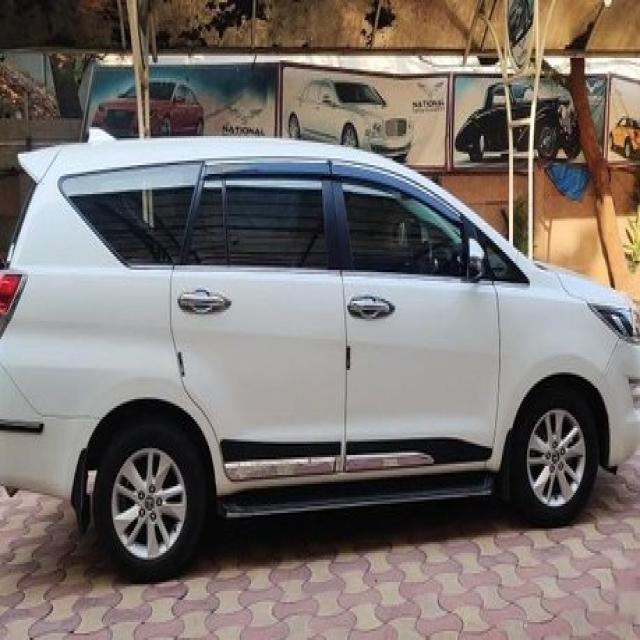light_vehicle: (0, 132, 639, 584)
